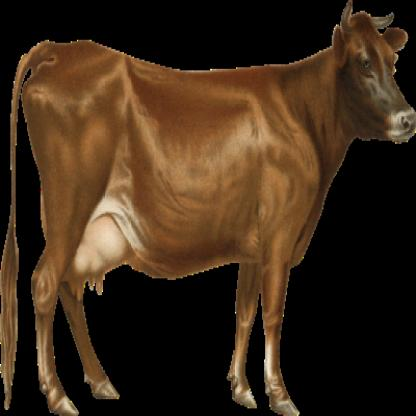lower: (393, 132, 413, 141)
mouth: (385, 107, 416, 143)
upper: (392, 112, 414, 131)
